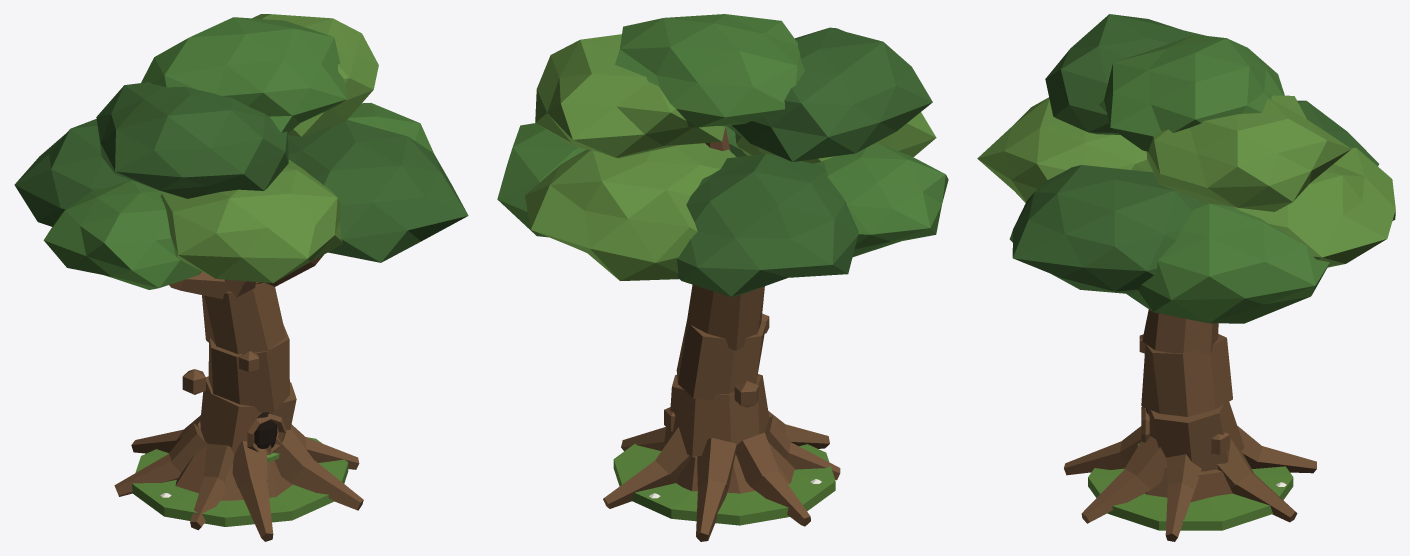
The model's file is grove_oak.glb.
The picture shows the model from 3 angles, left to right: view 1: azimuth 30°, elevation 25°; view 2: azimuth 150°, elevation 25°; view 3: azimuth 270°, elevation 25°; orthographic projection. The views are drawn at different scales.
Visible parts, largest first — view 1: grove_oak; view 2: grove_oak; view 3: grove_oak.
Part boxes in pixels (box(x1,y1,x2,y2)): grove_oak: box(14, 14, 468, 541); grove_oak: box(497, 14, 948, 541); grove_oak: box(977, 14, 1395, 541).
Size of the model in its own units: 9.39 by 10.4 by 8.9.
